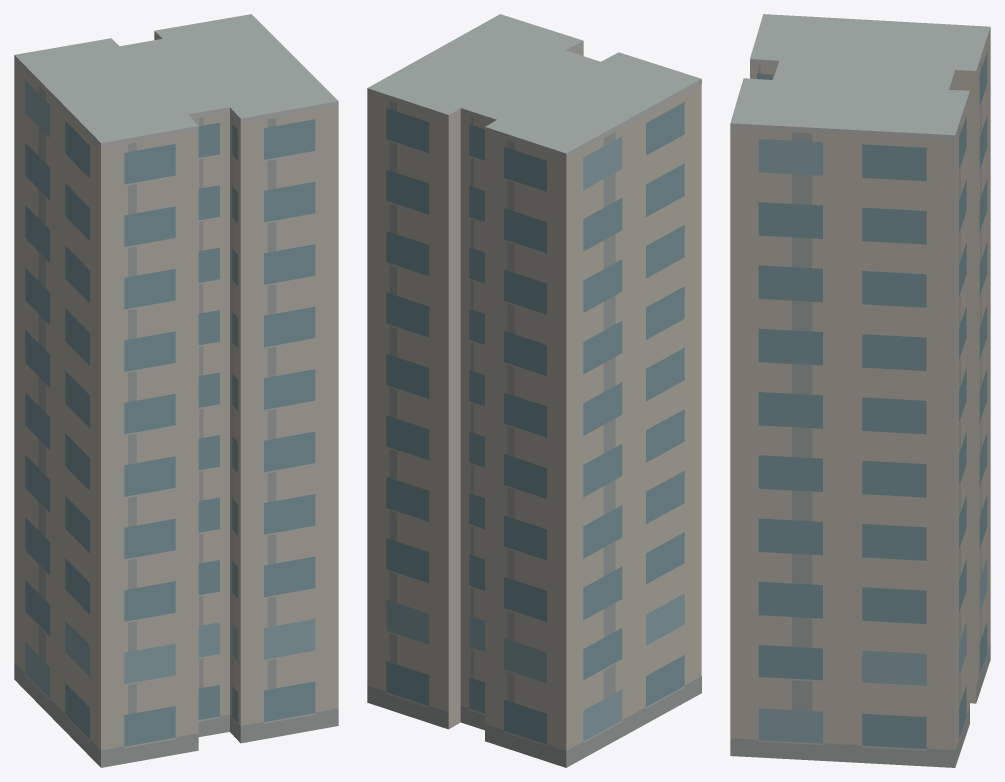
Rendered from survey-upis-33009576.glb.
3 renders of one model, left to right at view 1: azimuth 30°, elevation 25°; view 2: azimuth 150°, elevation 25°; view 3: azimuth 270°, elevation 25°, orthographic. The views are drawn at different scales.
Visible parts, largest first — view 1: survey-upis-33009576.tmp; view 2: survey-upis-33009576.tmp; view 3: survey-upis-33009576.tmp.
Boxes of the visible parts, x1,y1,x2,y2 form: survey-upis-33009576.tmp: [14, 14, 338, 767]; survey-upis-33009576.tmp: [367, 14, 701, 767]; survey-upis-33009576.tmp: [730, 14, 990, 767].
Size of the model in its own units: 11.39 by 27.7 by 10.34.
